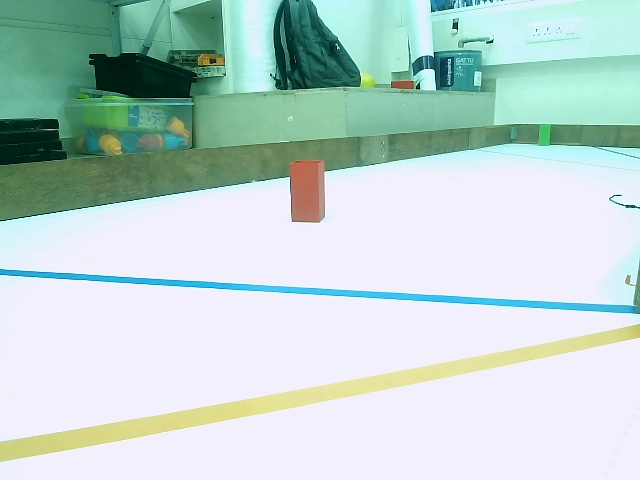red: (290, 160, 326, 221)
